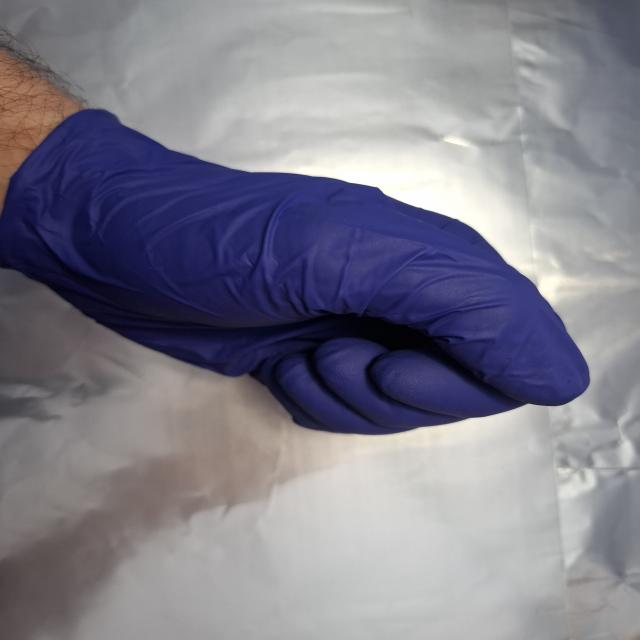glove_on: (1, 107, 598, 438)
